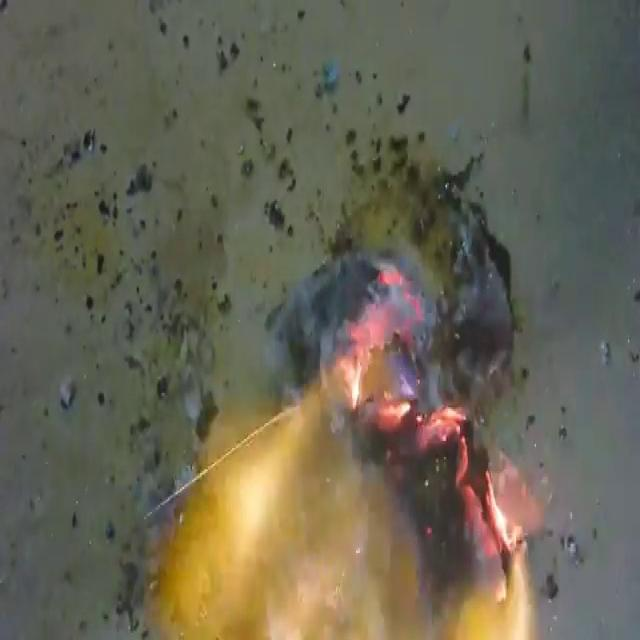Fire: (144, 256, 544, 638)
